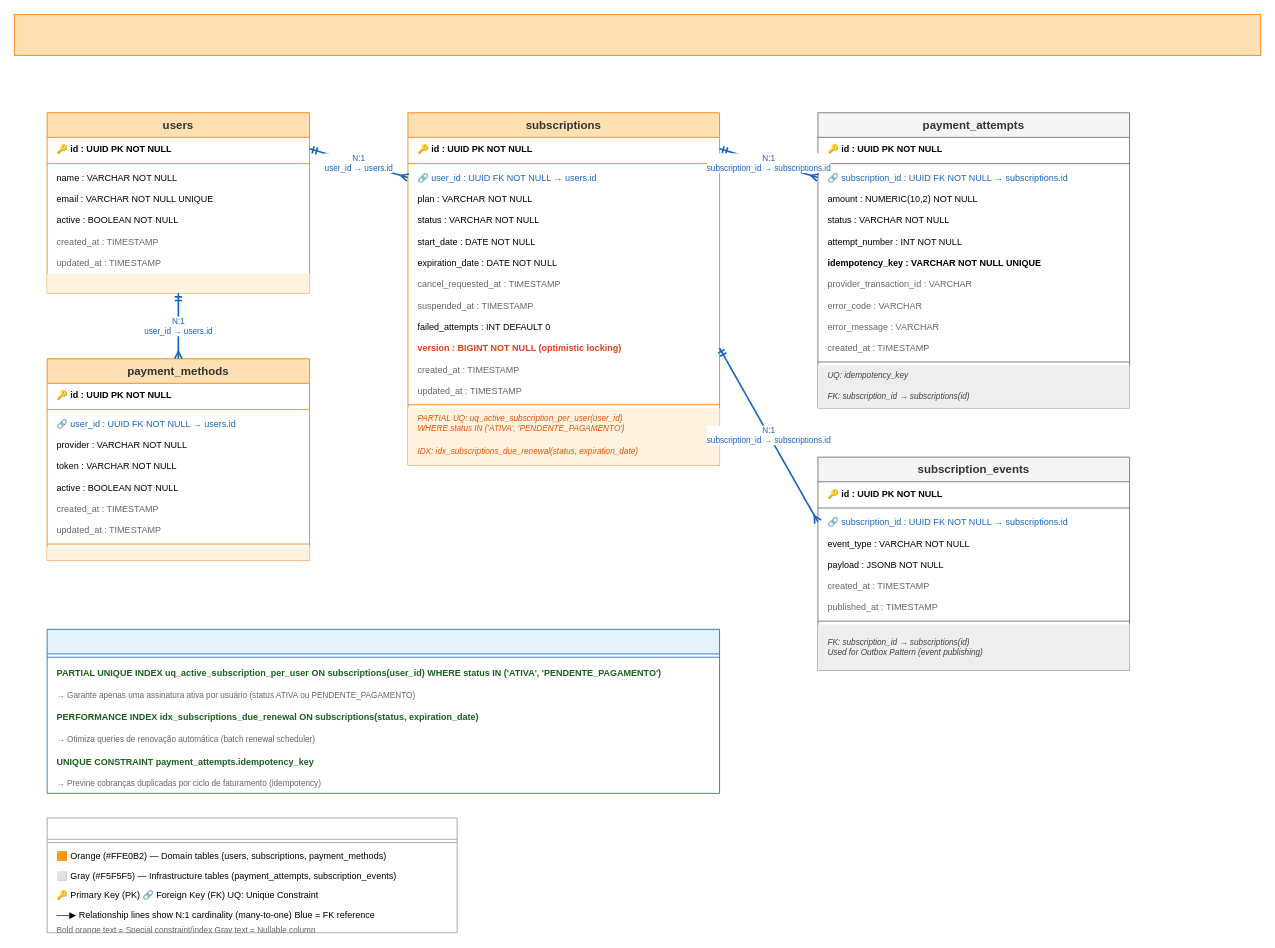
The diagram is 1275 pixels wide and 948 high, and some of its shapes have lost their labels. The shapes that lost their labels are listed below. From the top down, each one's box as (x1, y1, x2, y2) in pixels, then its label:
(14, 14, 1261, 55): Database Schema — Sistema de Gestão de Assinaturas (Subscription System)
(47, 273, 309, 293): UQ: email
(47, 547, 309, 560): FK: user_id → users(id)
(46, 629, 720, 793): Constraints & Indexes
(46, 817, 457, 933): Legend
